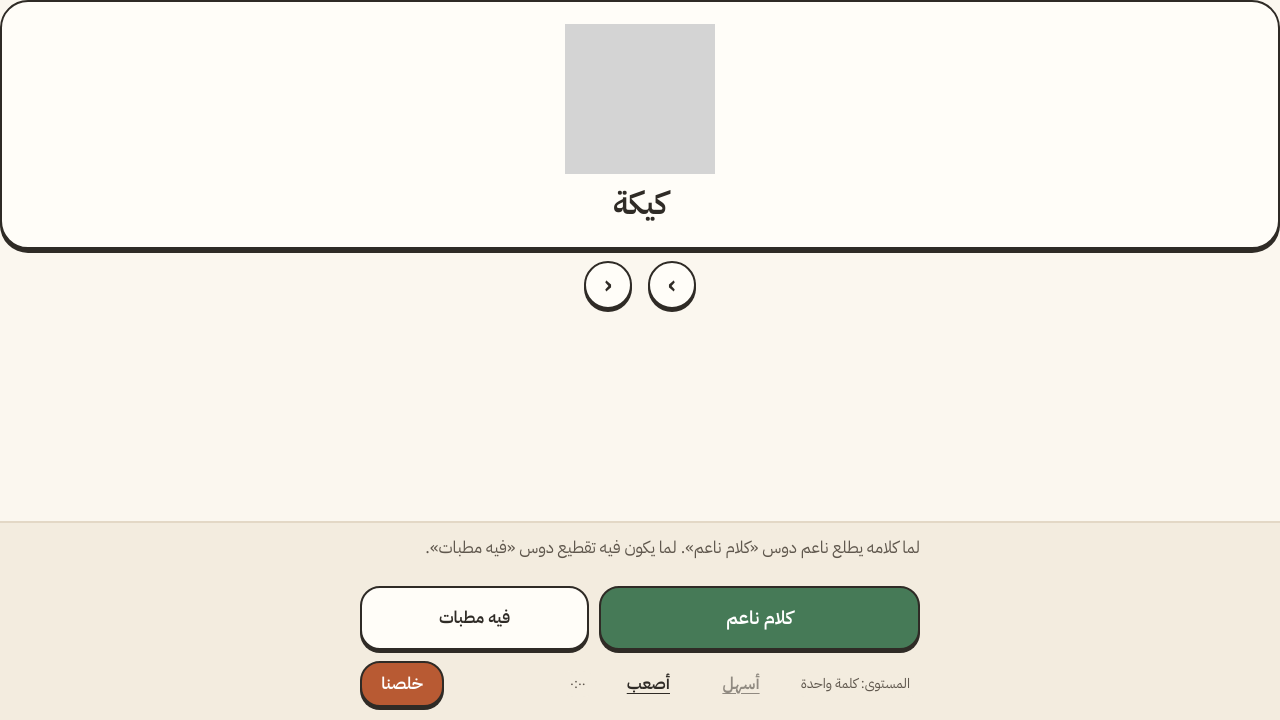
TalkingGame › each tap saves the session, so closing the app keeps the taps
Click the button "كلام ناعم".
click(760, 618)  # box [599, 586, 920, 650]
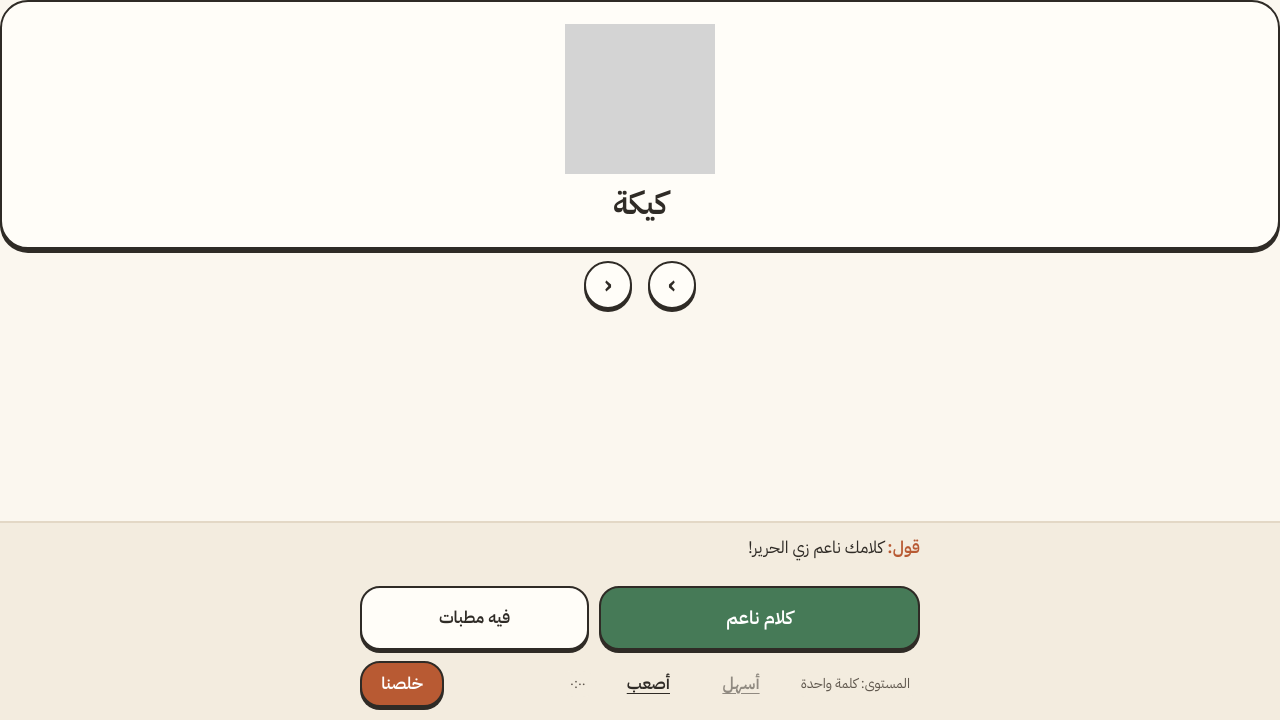
expect the text "كلامك ناعم زي الحرير!" is shown: met, box [748, 535, 883, 560]
